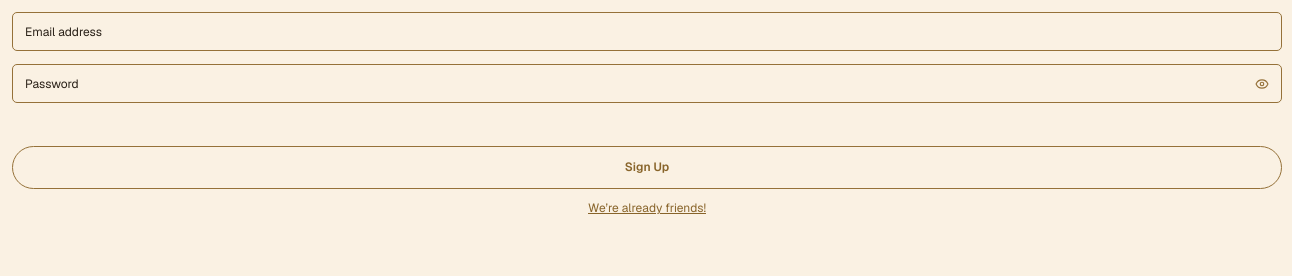
AuthForm › shows API validation beside its field
The image size is (1292, 276).
Type "reader@example.com" into the field labelled "Email" at (647, 32), box 12,12 -> 1282,51
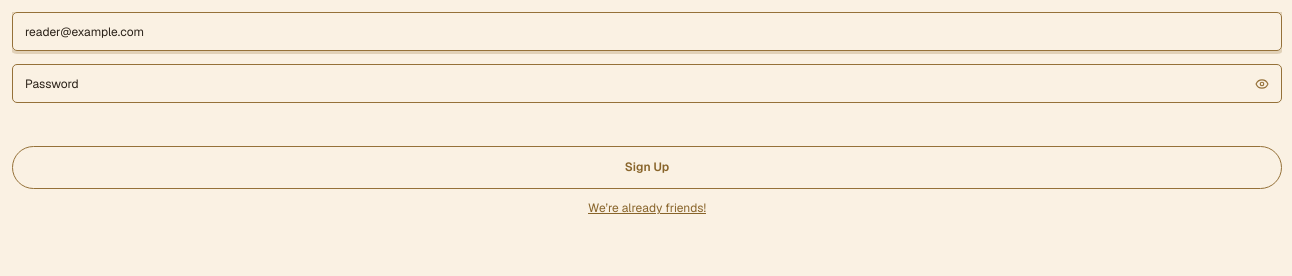
Type "a-secure-password" into the password field labelled "Password" at (647, 84), box 12,64 -> 1282,103
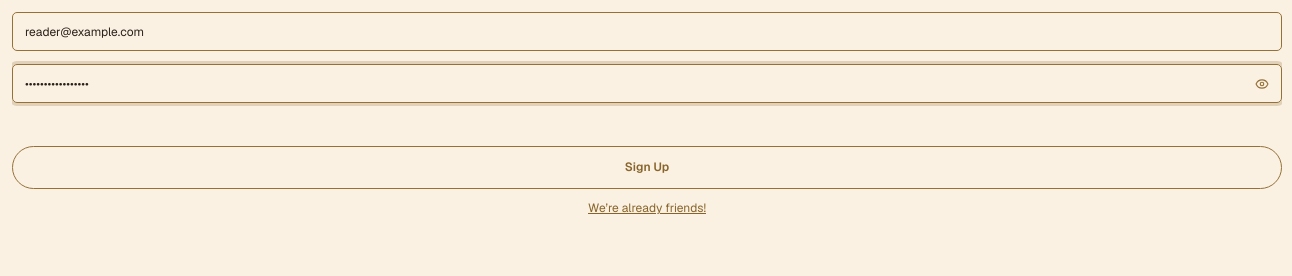
Click the button "Sign Up" at (647, 168), box 12,146 -> 1282,189
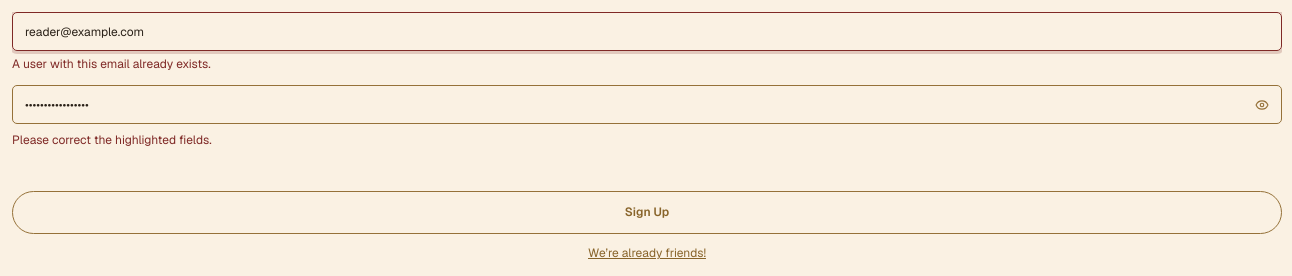
Expected: the text "A user with this email already exists." is shown, 12,56 -> 211,72
